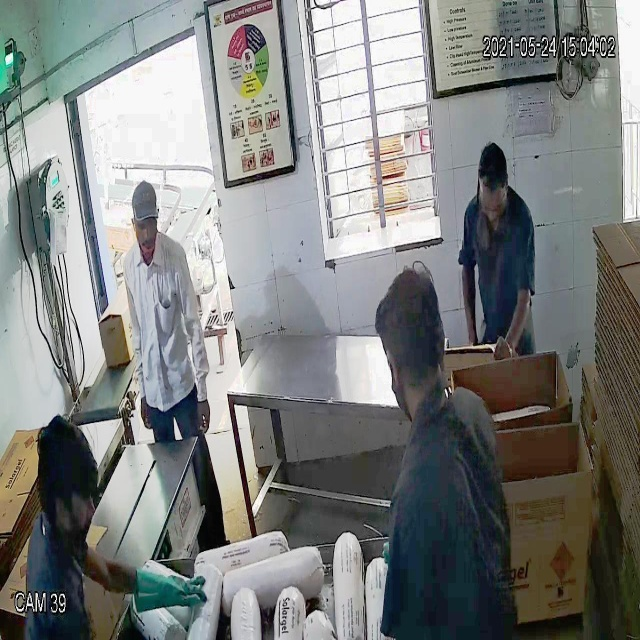Sin_gafas: (128, 211, 161, 238)
